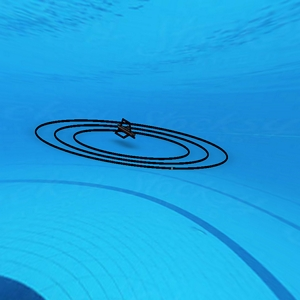circle: (24, 91, 237, 175)
submarine: (113, 117, 136, 141)
